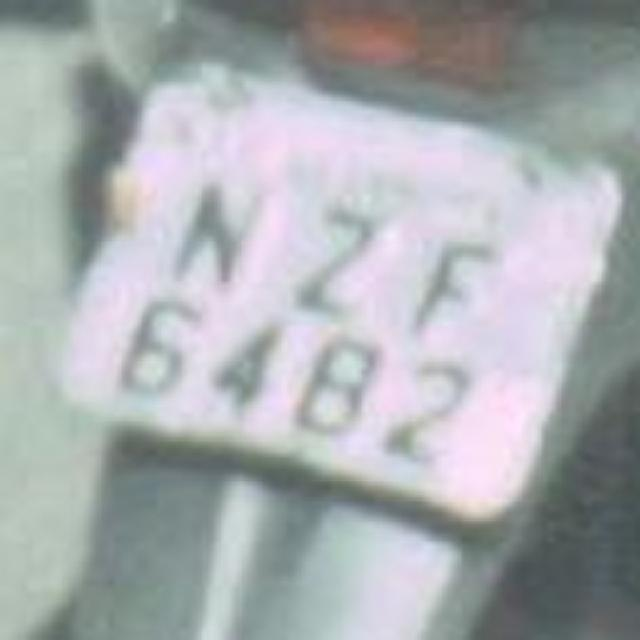2: (356, 344, 496, 491)
4: (188, 296, 288, 429)
6: (100, 280, 215, 405)
8: (260, 320, 405, 448)
F: (400, 216, 512, 349)
N: (151, 160, 264, 300)
Z: (260, 195, 400, 320)
